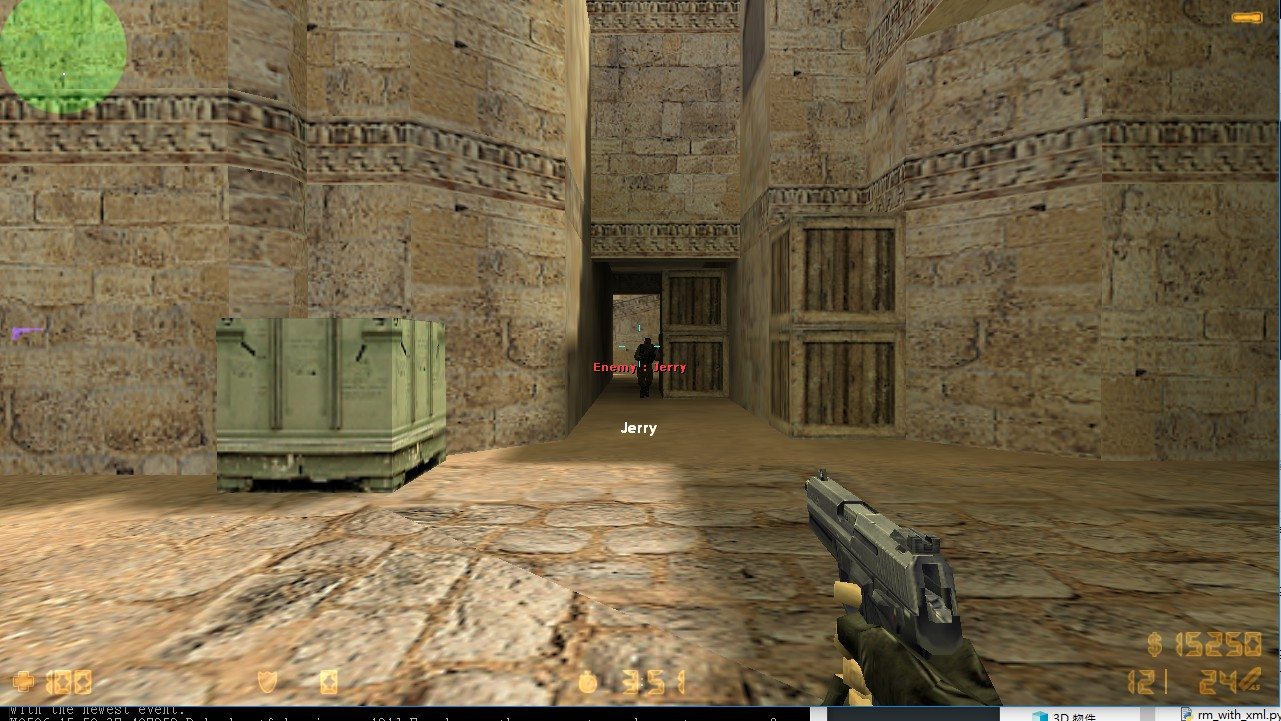person: (632, 331, 656, 394)
